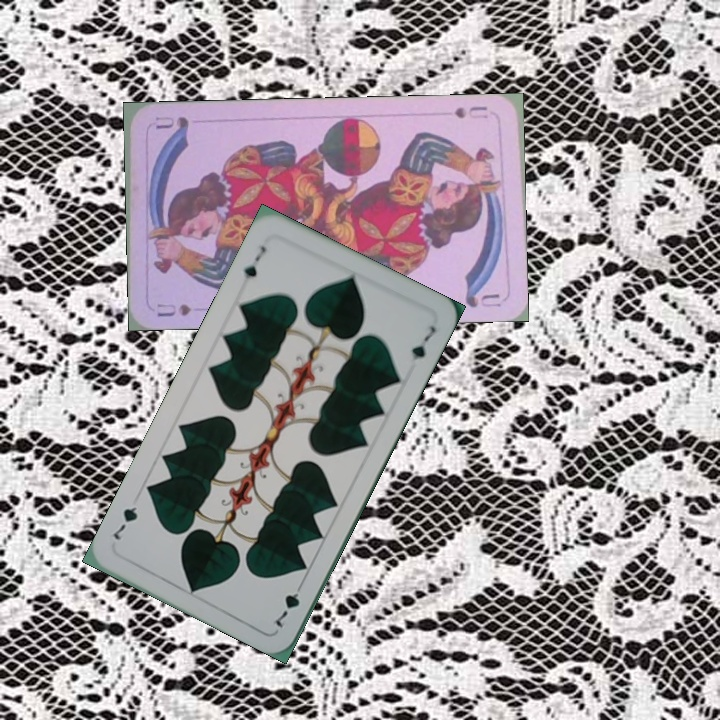G7: (271, 577, 307, 631), (239, 241, 269, 282)
SU: (153, 299, 194, 320), (450, 102, 490, 122)
